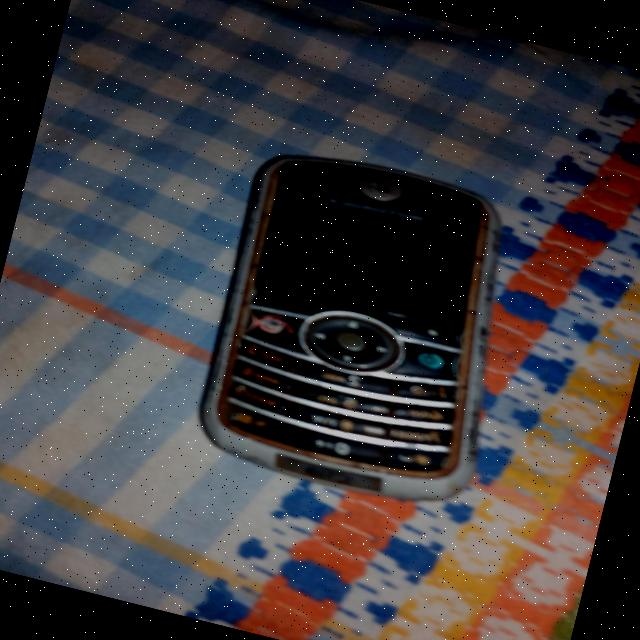Phone: (182, 133, 538, 514)
